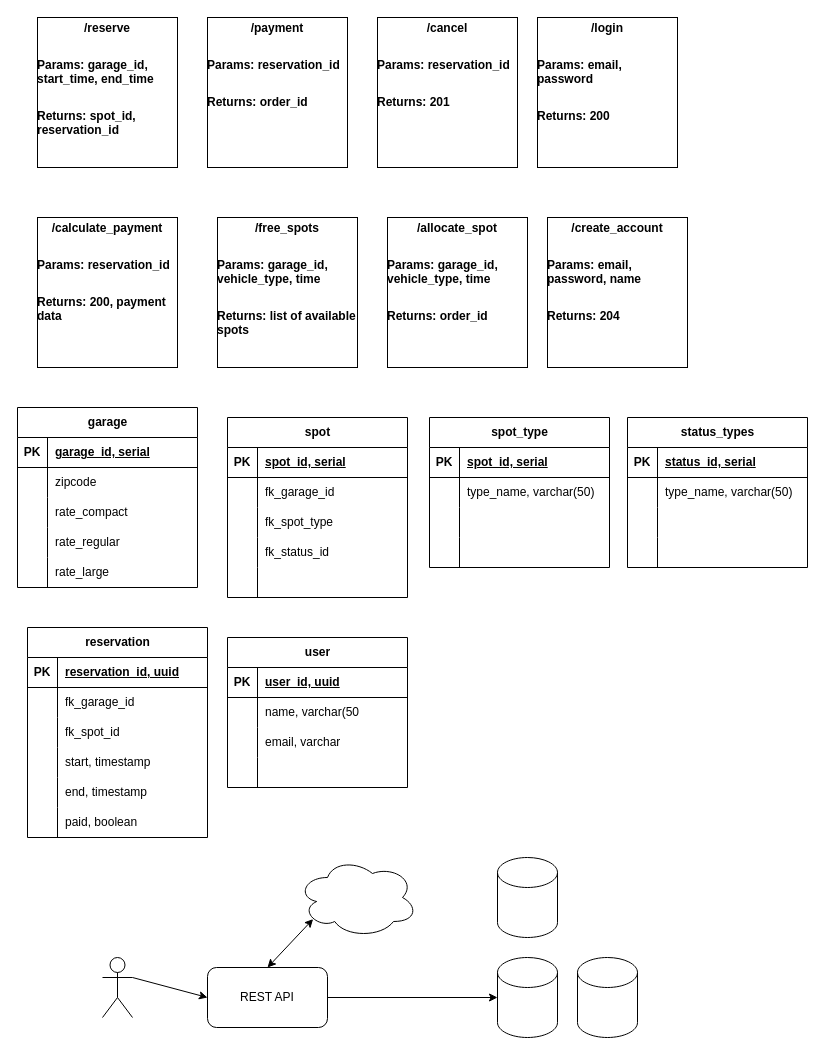
Some shapes in this 825 by 1056 pixel diagram are drawn without their labels. The centre of each missing label's shape, as x and y in pixels:
3rd Party Payments: point 357,897
UI: point 117,987
